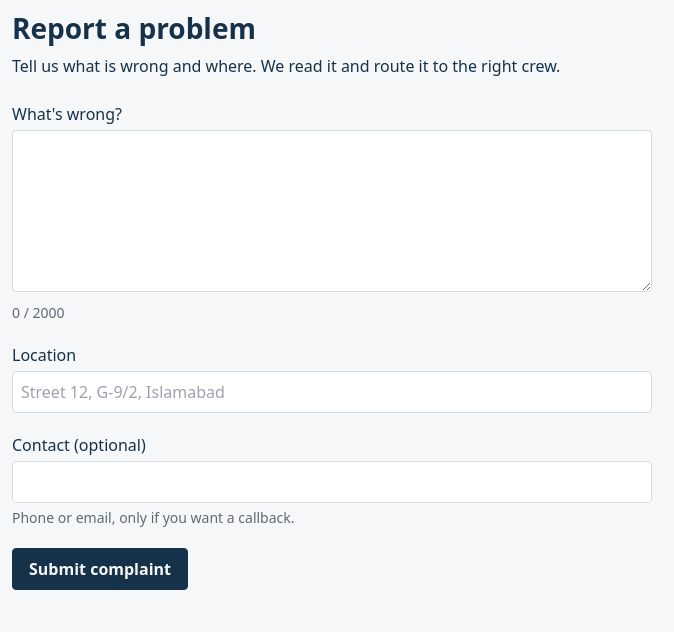
Test: 1. short text shows the zod message and sends no request
In the text box labelled "What's wrong?": coordinates (332, 211) [12,130,652,292], type "too short"
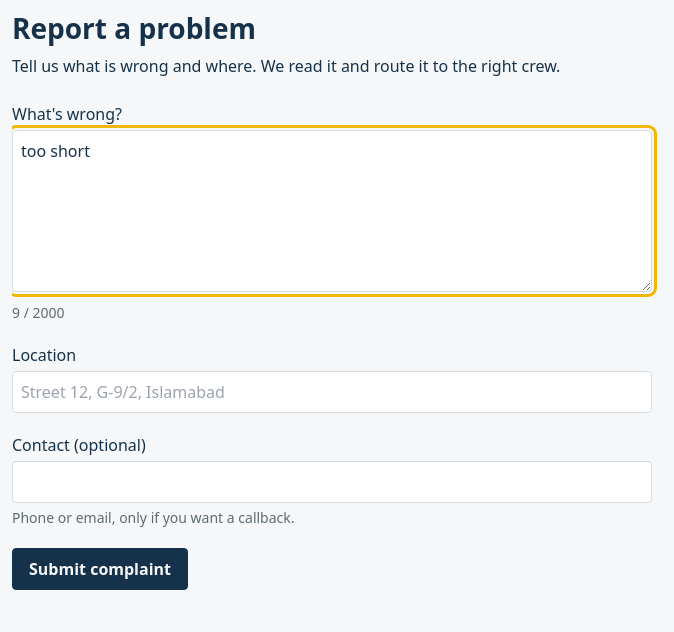
In the field labelled "Location": coordinates (332, 392) [12,371,652,413], type "Test St"
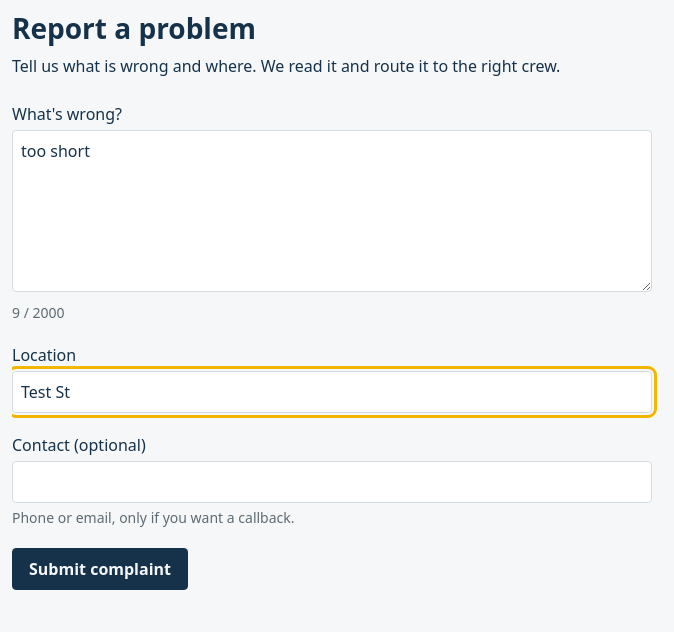
Click the button "Submit complaint": coordinates (100, 569) [12,548,188,590]
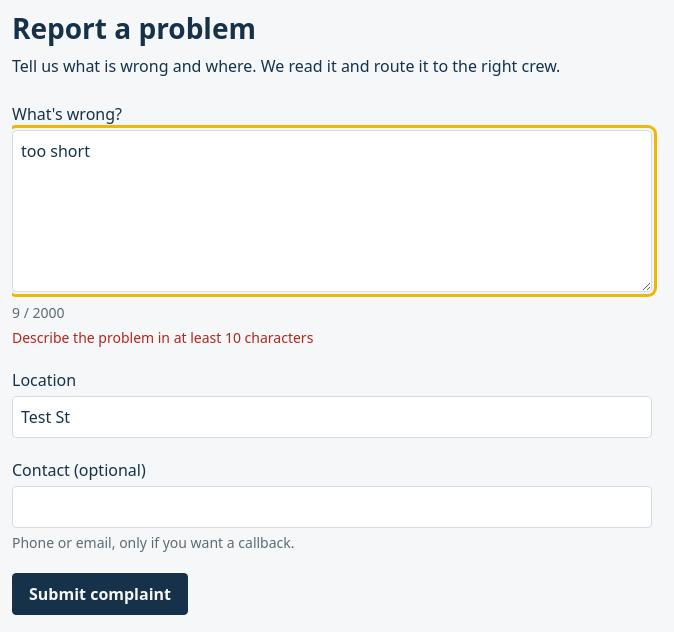
Expected: the button "Submit complaint" is enabled, [12,573,188,615]
Now the text "Describe the problem in at least 10 characters" is shown, box [12,328,313,347]
